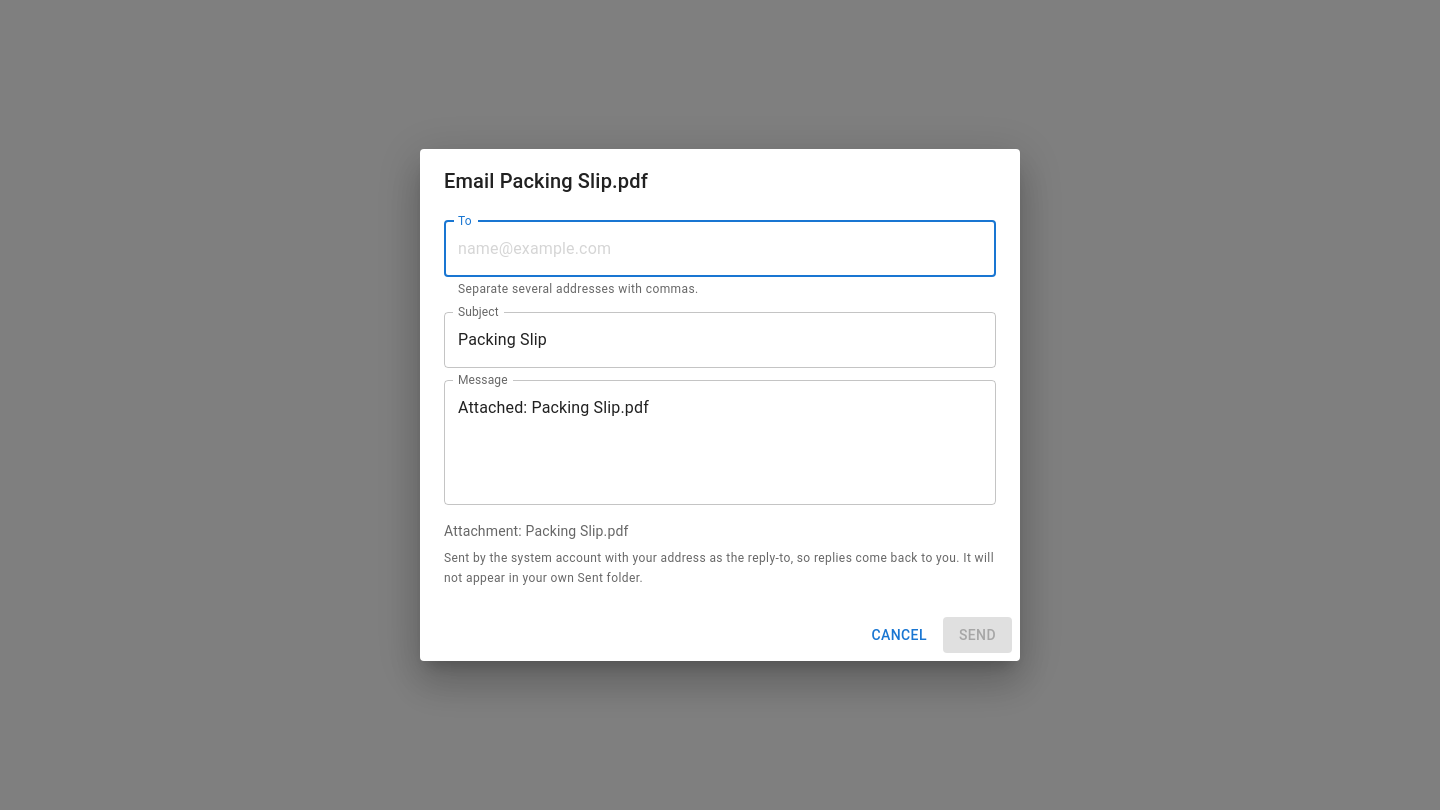
Test case: EmailDocumentDialog › stays open and shows the server’s message when the send fails
Step 1. Type "c@x.com" into the field with test id "email-doc-to" → (720, 249), box [444,221,996,277]
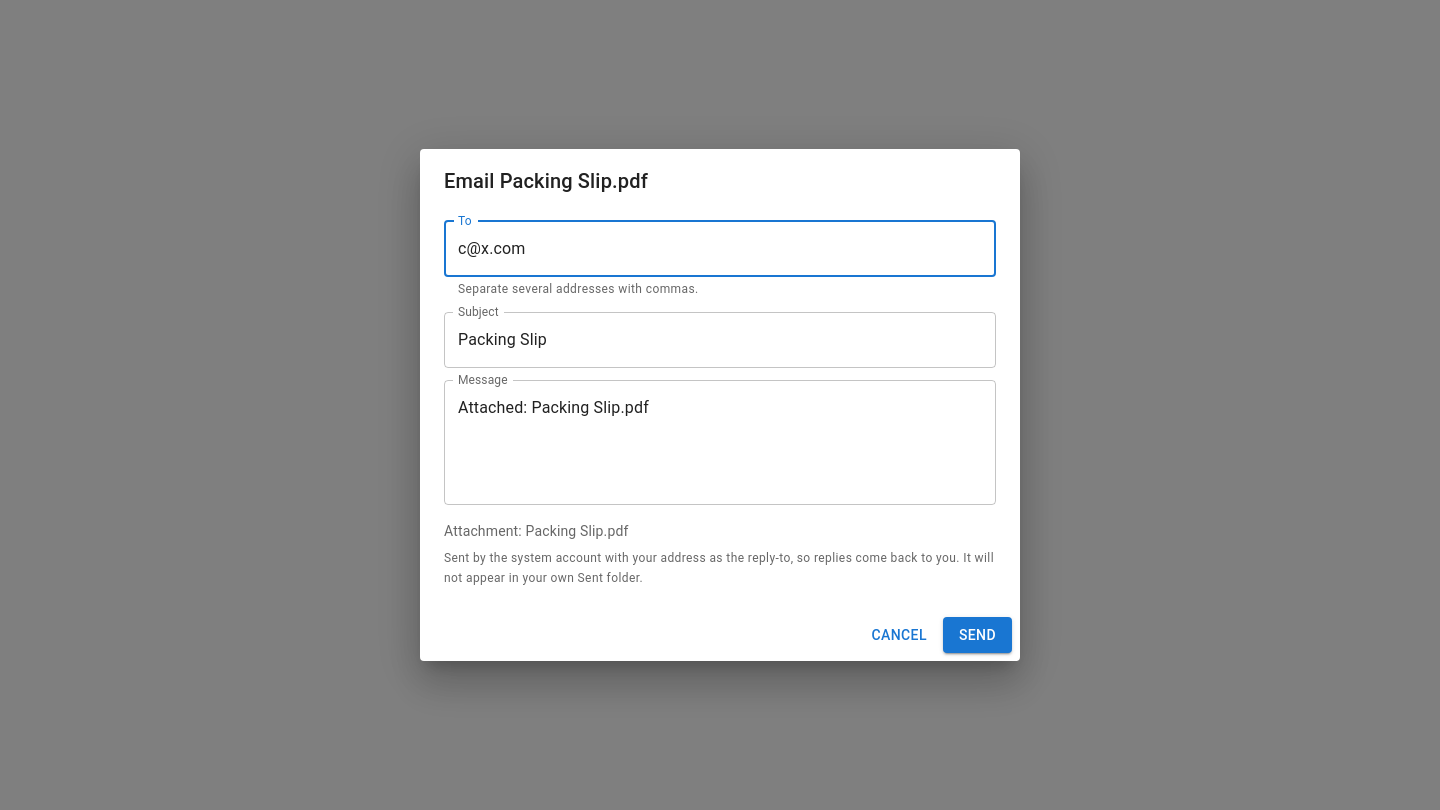
Step 2. Click the button "Send" → click(977, 635), box [943,617,1012,653]
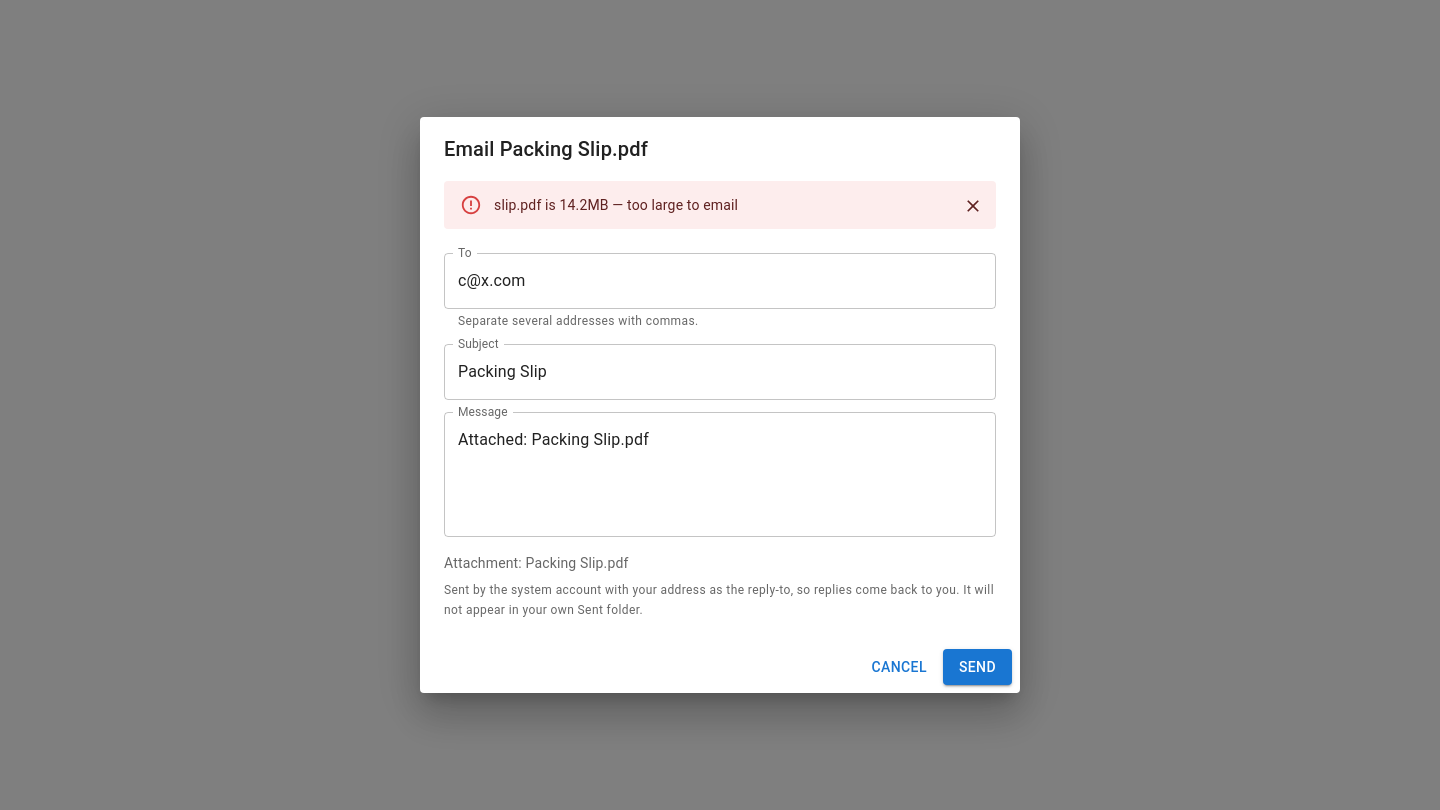
Result: the button "Send" is enabled at [943,649,1012,685]
Result: the text "slip.pdf is 14.2MB — too large to email" is shown at [494,197,738,213]
